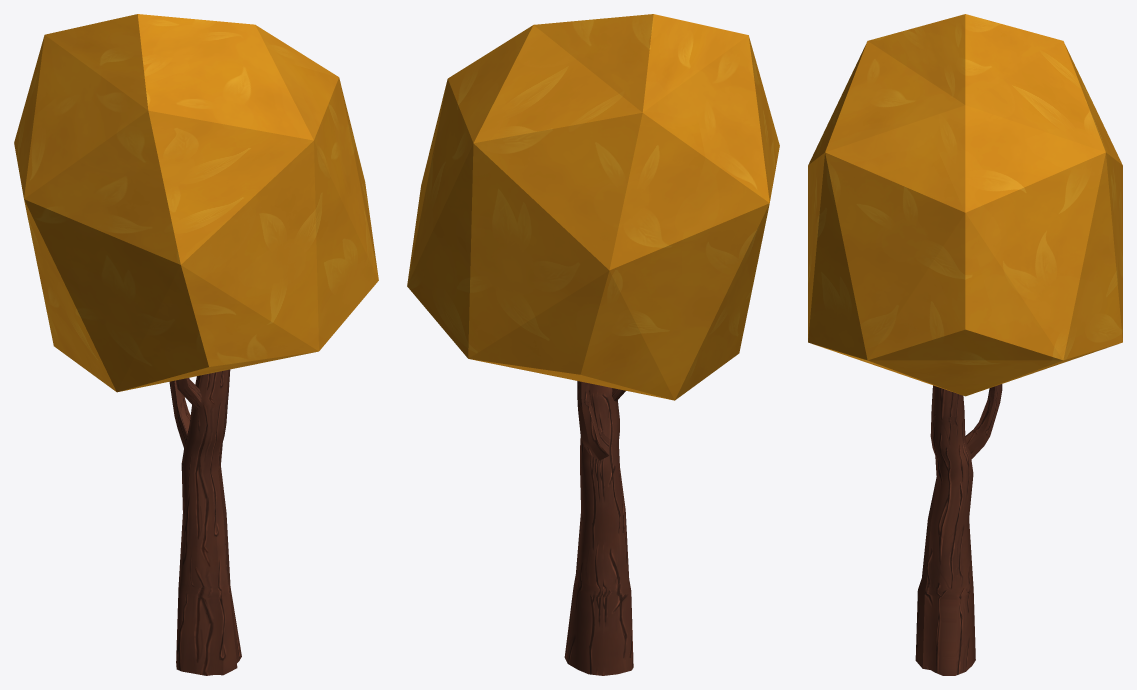
The model's file is Small Tree 3.FBX.
3 renders of one model, left to right at view 1: azimuth 30°, elevation 25°; view 2: azimuth 150°, elevation 25°; view 3: azimuth 270°, elevation 25°, orthographic. The views are drawn at different scales.
Parts seen in each view (by area): view 1: Cylinder003; view 2: Cylinder003; view 3: Cylinder003.
Boxes of the visible parts, x1,y1,x2,y2 form: Cylinder003: (14,14,378,675); Cylinder003: (407,14,779,675); Cylinder003: (808,14,1122,675).
Bounding box in the file's own units: 28.02 × 51.51 × 23.73.
